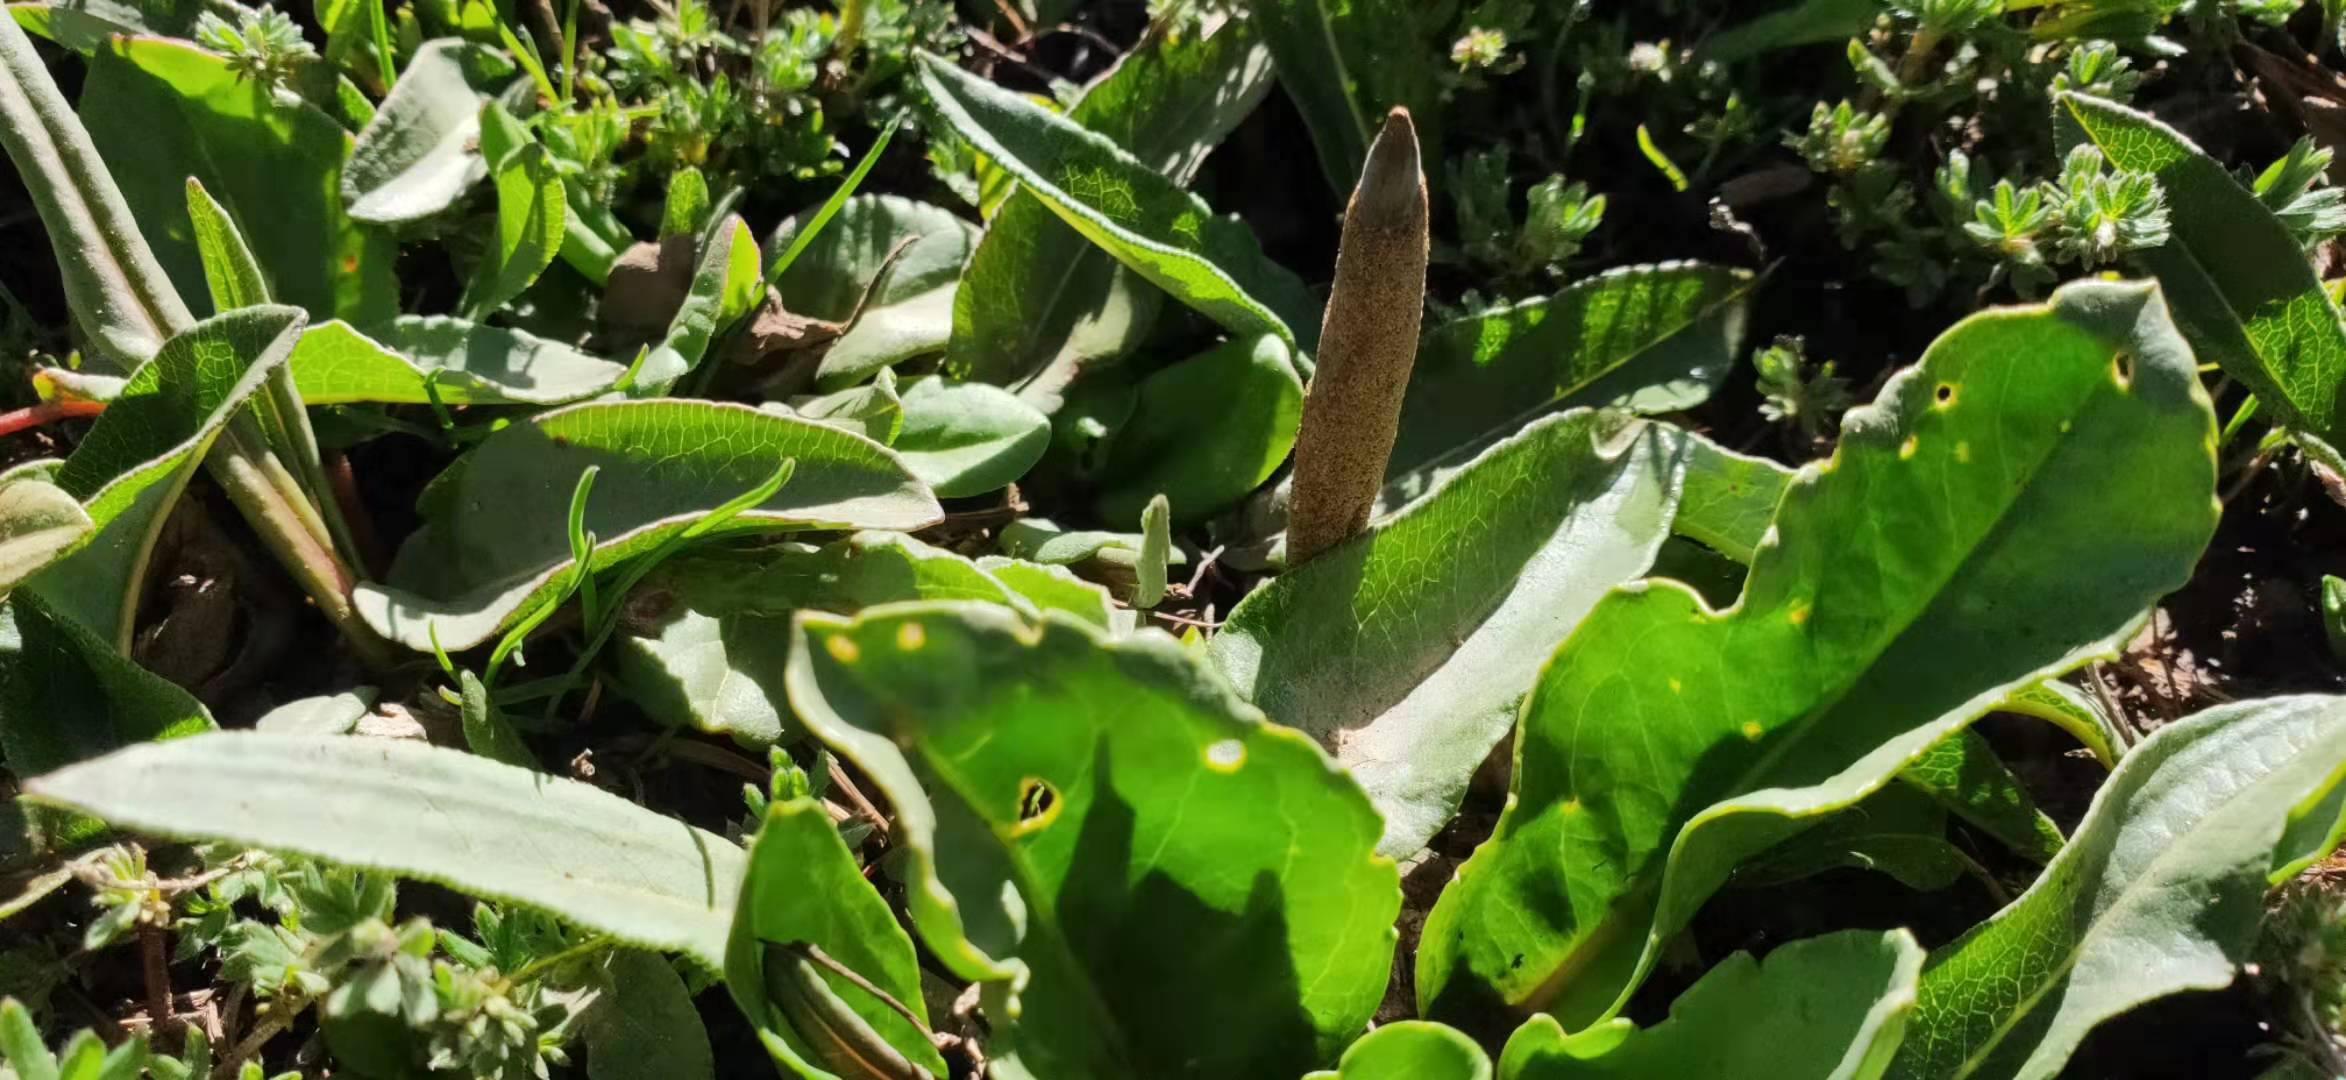cpf: (1276, 97, 1430, 565)
